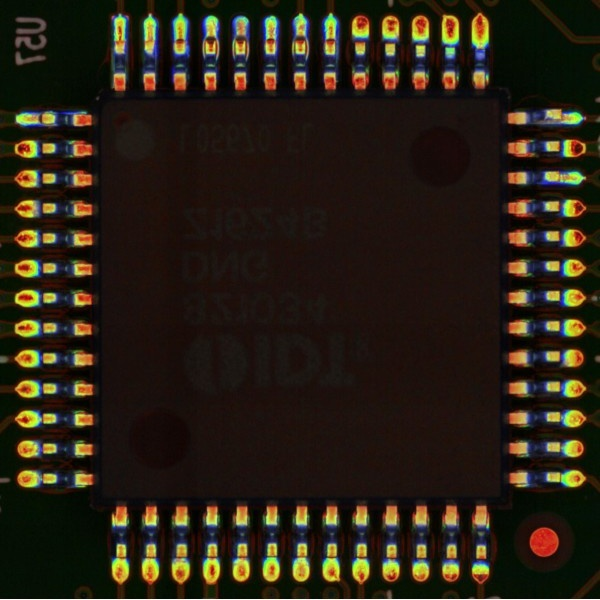Bad_podu: (175, 28, 185, 49), (114, 30, 125, 48), (549, 173, 572, 180), (267, 32, 276, 49), (33, 113, 47, 123), (557, 114, 571, 122), (326, 34, 335, 44)
Bad_qiaojiao: (305, 39, 310, 62), (202, 39, 207, 59), (291, 39, 296, 59), (216, 40, 220, 62), (232, 39, 236, 61), (246, 40, 249, 62)
